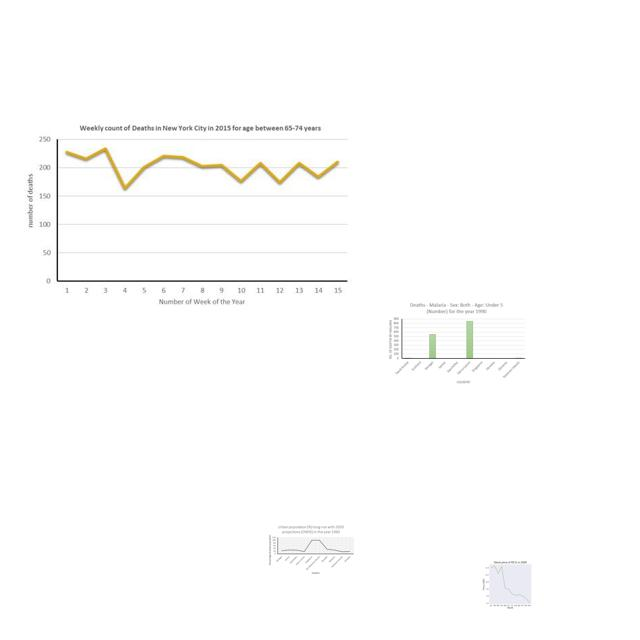Graph: (19, 115, 355, 314), (385, 300, 527, 386), (268, 524, 355, 576), (475, 558, 544, 610)
